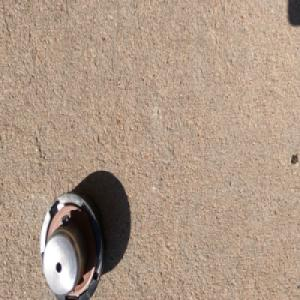FuelCap: (38, 188, 108, 300)
